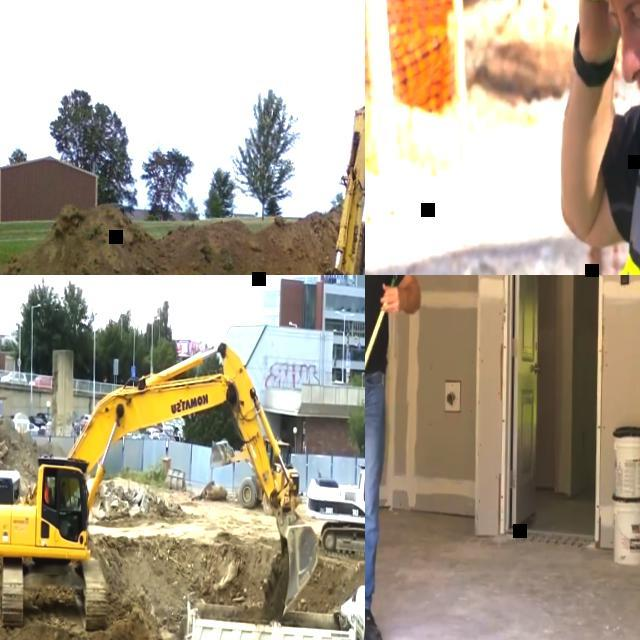machinery: (0, 332, 323, 640), (284, 101, 365, 275), (176, 578, 365, 640), (305, 374, 365, 562), (210, 436, 300, 512)
no_mask: (64, 490, 66, 496)
no_vest: (365, 275, 393, 382), (60, 496, 67, 510), (61, 483, 68, 490)
person: (556, 0, 640, 275), (365, 275, 424, 640), (59, 483, 81, 540)
vehicle: (1, 372, 28, 384), (166, 418, 185, 434), (30, 376, 53, 387), (29, 416, 46, 428), (160, 430, 176, 441), (144, 428, 160, 438), (80, 414, 92, 426), (38, 414, 52, 424), (153, 432, 170, 440), (30, 424, 40, 432), (138, 435, 152, 440)
